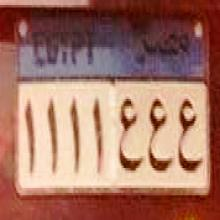1: (68, 96, 84, 176), (46, 96, 61, 180), (24, 96, 37, 178), (92, 97, 105, 174)
ain: (146, 96, 174, 178), (117, 92, 143, 177), (176, 96, 202, 178)
